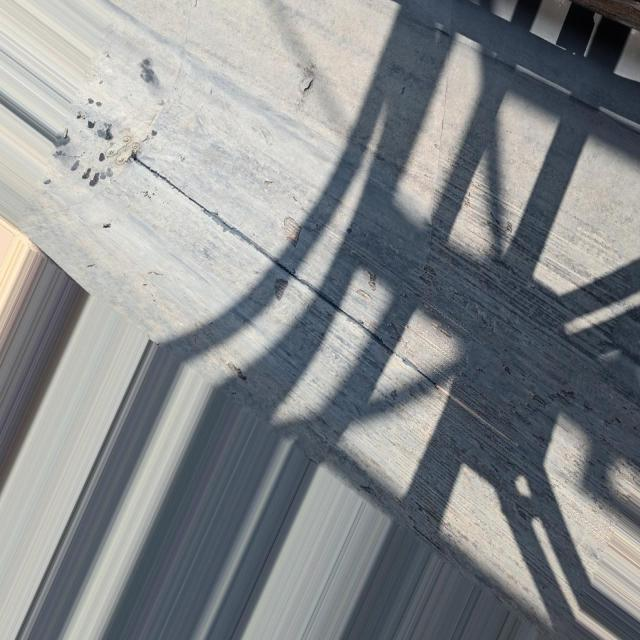Tear: (133, 154, 433, 389), (280, 216, 302, 247), (300, 71, 320, 95)
patch work: (103, 129, 148, 169)
